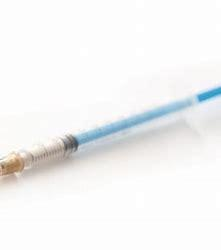Syringe: (1, 82, 221, 182)
